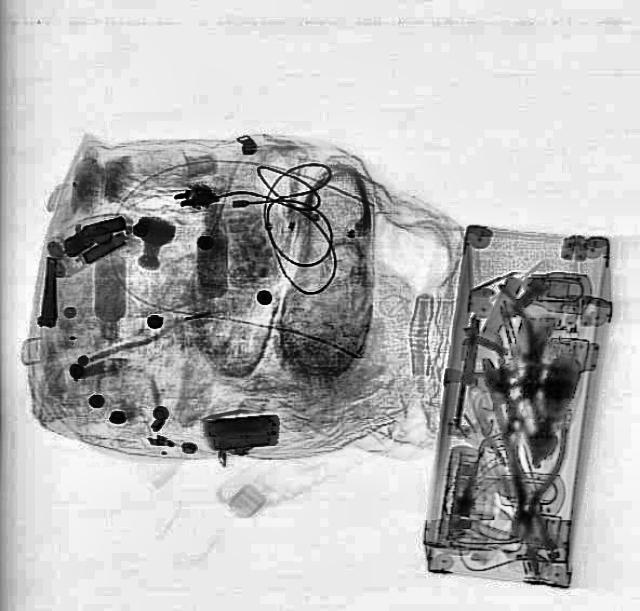Pliers: (486, 404, 574, 546)
